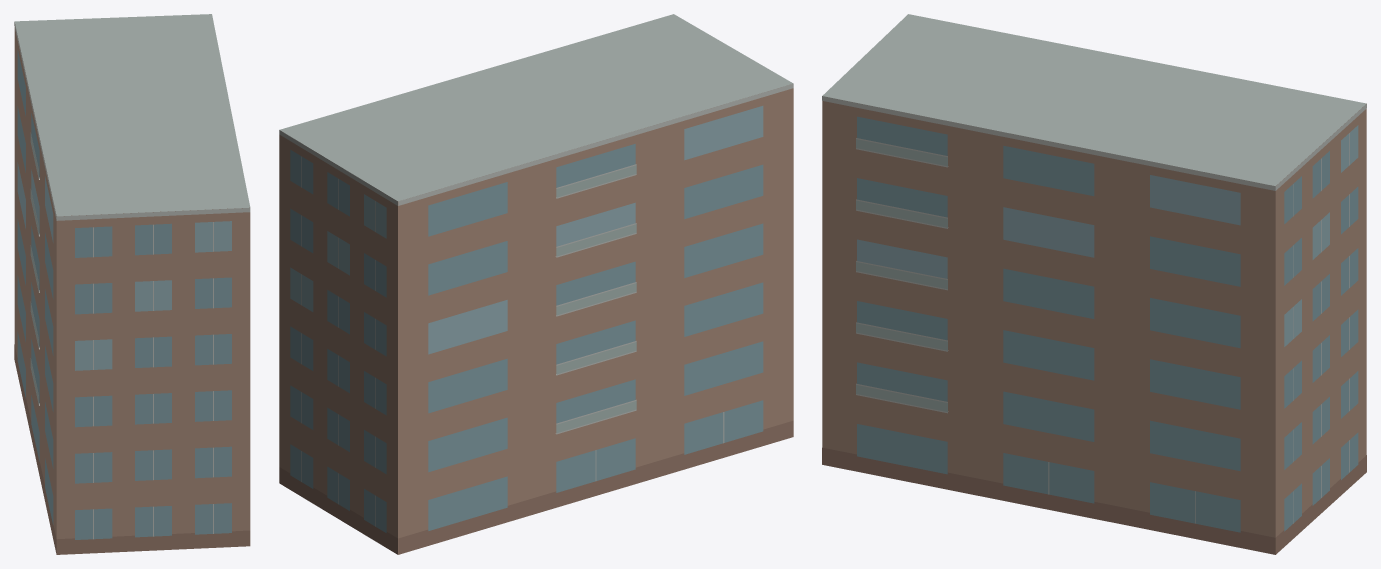
File: survey-upis-32633235.glb
The picture shows the model from 3 angles, left to right: view 1: azimuth 30°, elevation 25°; view 2: azimuth 150°, elevation 25°; view 3: azimuth 270°, elevation 25°; orthographic projection. The views are drawn at different scales.
Parts seen in each view (by area): view 1: survey-upis-32633235.tmp; view 2: survey-upis-32633235.tmp; view 3: survey-upis-32633235.tmp.
Boxes of the visible parts, bbox=[...] form: survey-upis-32633235.tmp: bbox=[14, 14, 250, 554]; survey-upis-32633235.tmp: bbox=[279, 14, 793, 554]; survey-upis-32633235.tmp: bbox=[822, 14, 1366, 554].
Size of the model in its own units: 18.74 by 18.7 by 25.04.
